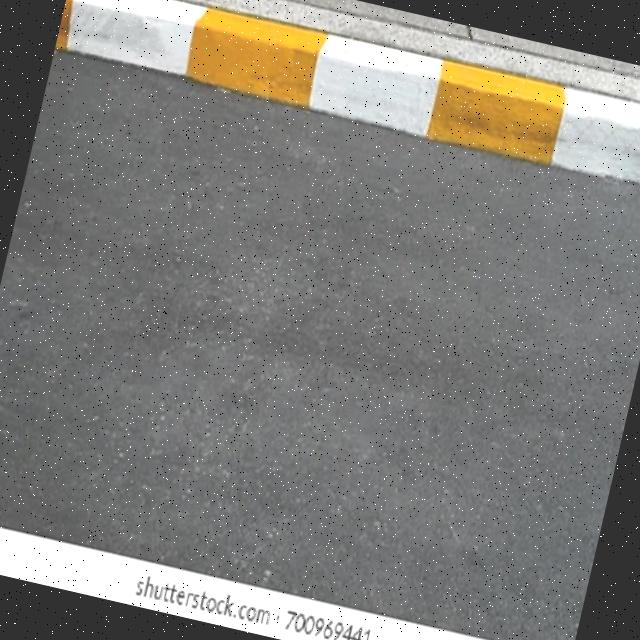curb: (56, 1, 640, 201)
